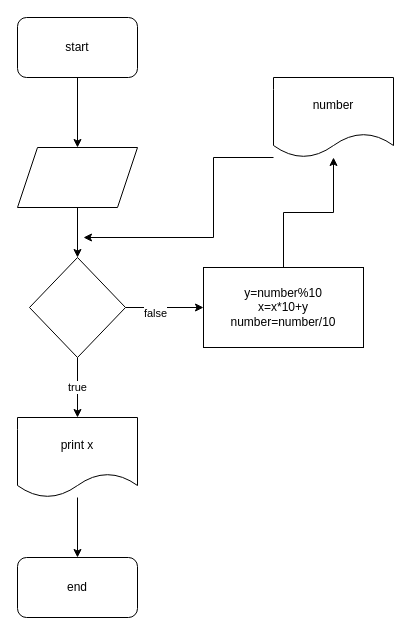
The diagram is 411 pixels wide and 635 high, and some of its shapes have lost their labels. The shapes that lost their labels are listed below. From the top down, each one's box as (x1, y1, x2, y2) in pixels, then its label:
(16, 146, 138, 208): number x=0 y=reminder
(28, 256, 126, 358): number<0
